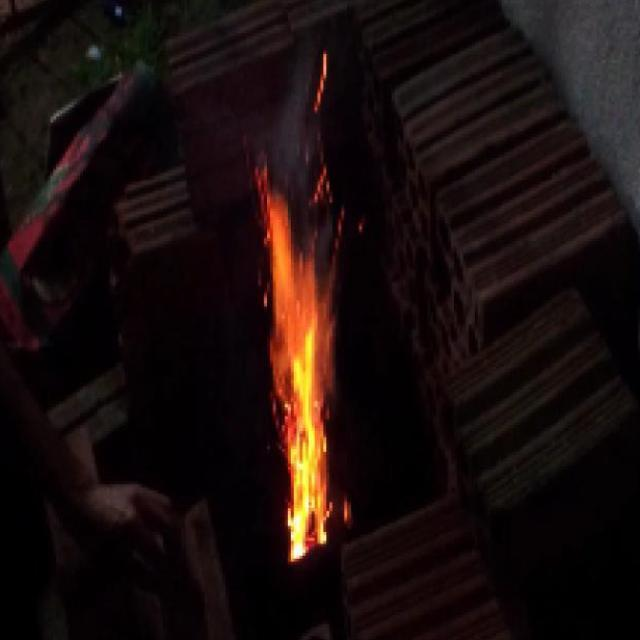smoke: (256, 156, 338, 567)
